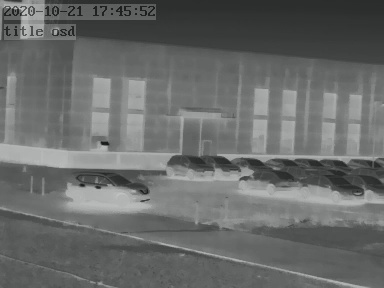vehicle: (68, 170, 152, 198), (299, 173, 364, 202), (237, 169, 302, 191), (165, 152, 212, 178), (349, 173, 382, 200), (206, 153, 241, 177), (232, 154, 270, 172), (261, 155, 296, 170), (347, 156, 381, 170), (317, 156, 348, 170), (295, 156, 325, 169)
